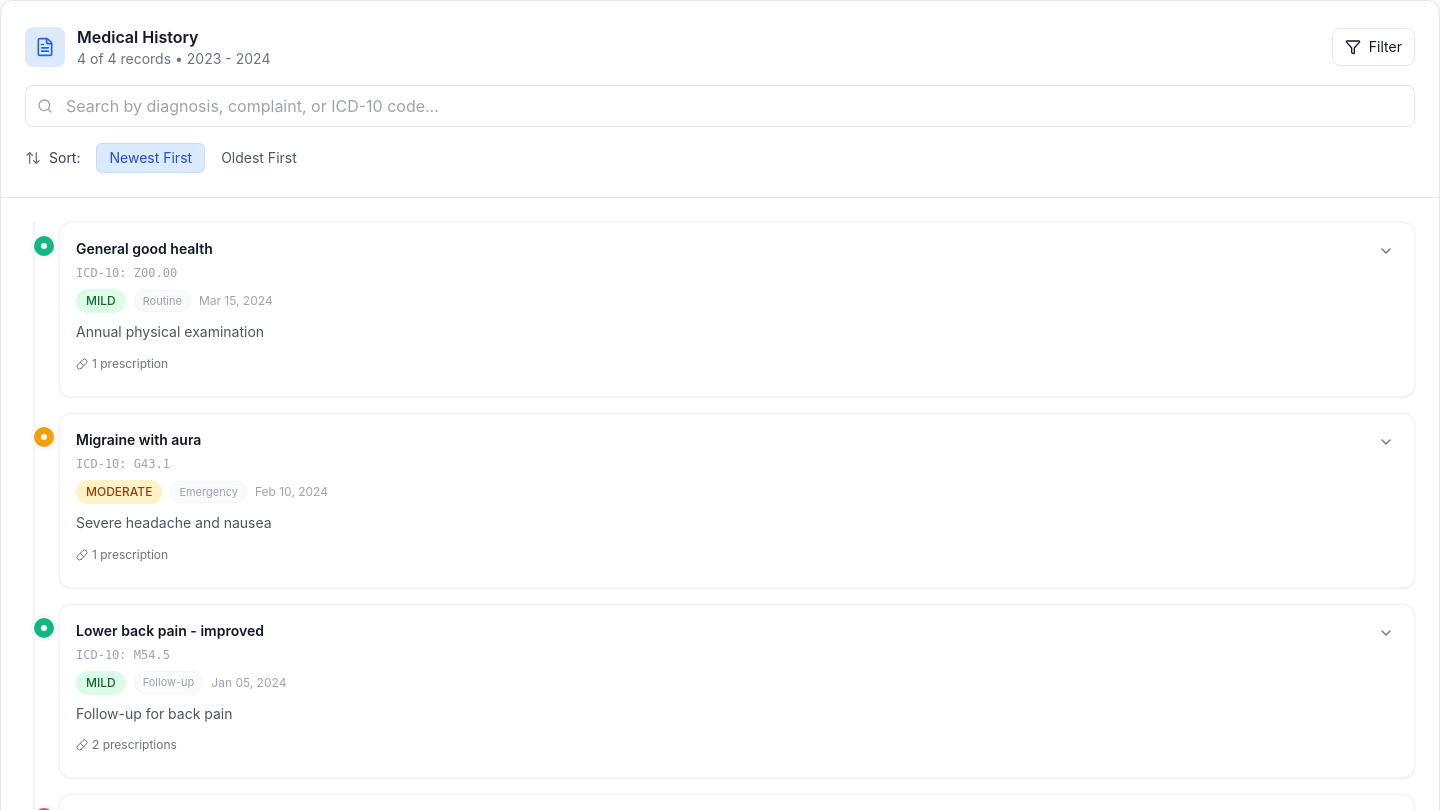
Test: MedicalHistoryTimeline › Search Functionality › can search by diagnosis
The width and height of the screenshot is (1440, 810).
Type "migraine" into the search field named "search medical history" at (720, 106), box x1=25 y1=85 x2=1415 y2=127
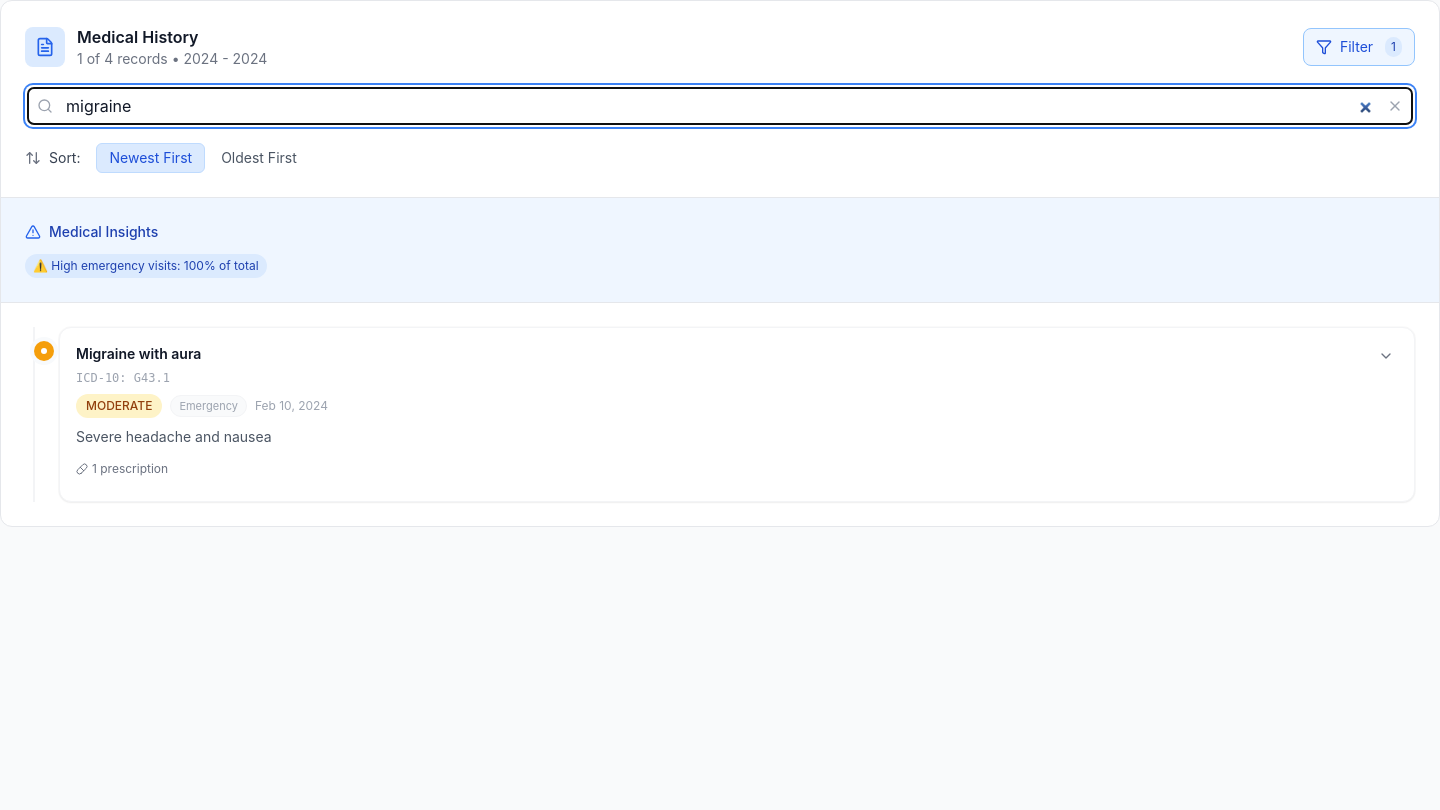
Expected: the heading "Migraine with aura" is shown, x1=76 y1=344 x2=201 y2=364
Result: the heading "General good health" is gone
